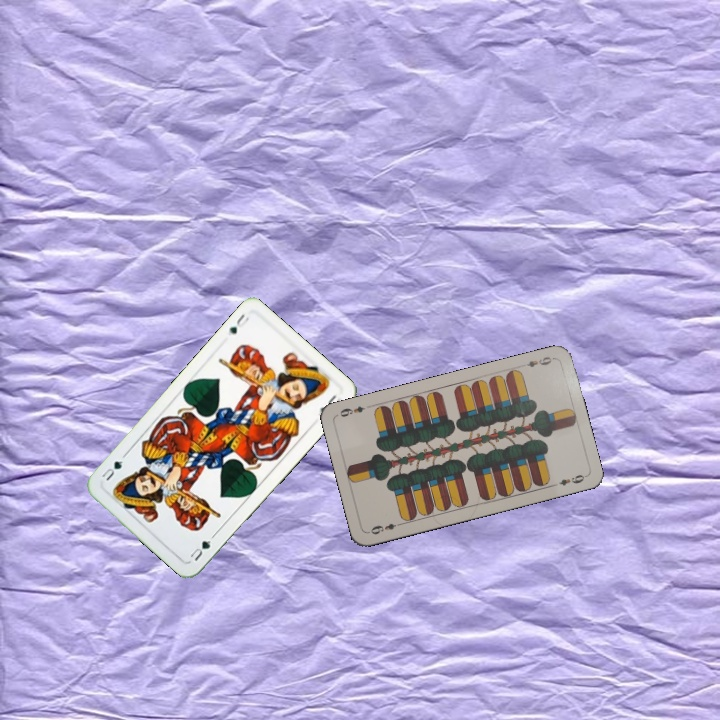E9: (517, 352, 557, 370), (367, 519, 405, 537)
GU: (185, 536, 214, 564), (224, 310, 252, 337)
